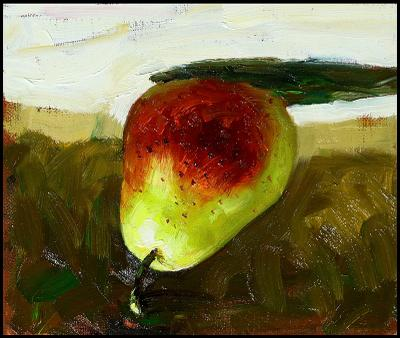pear: (0, 0, 400, 338)
